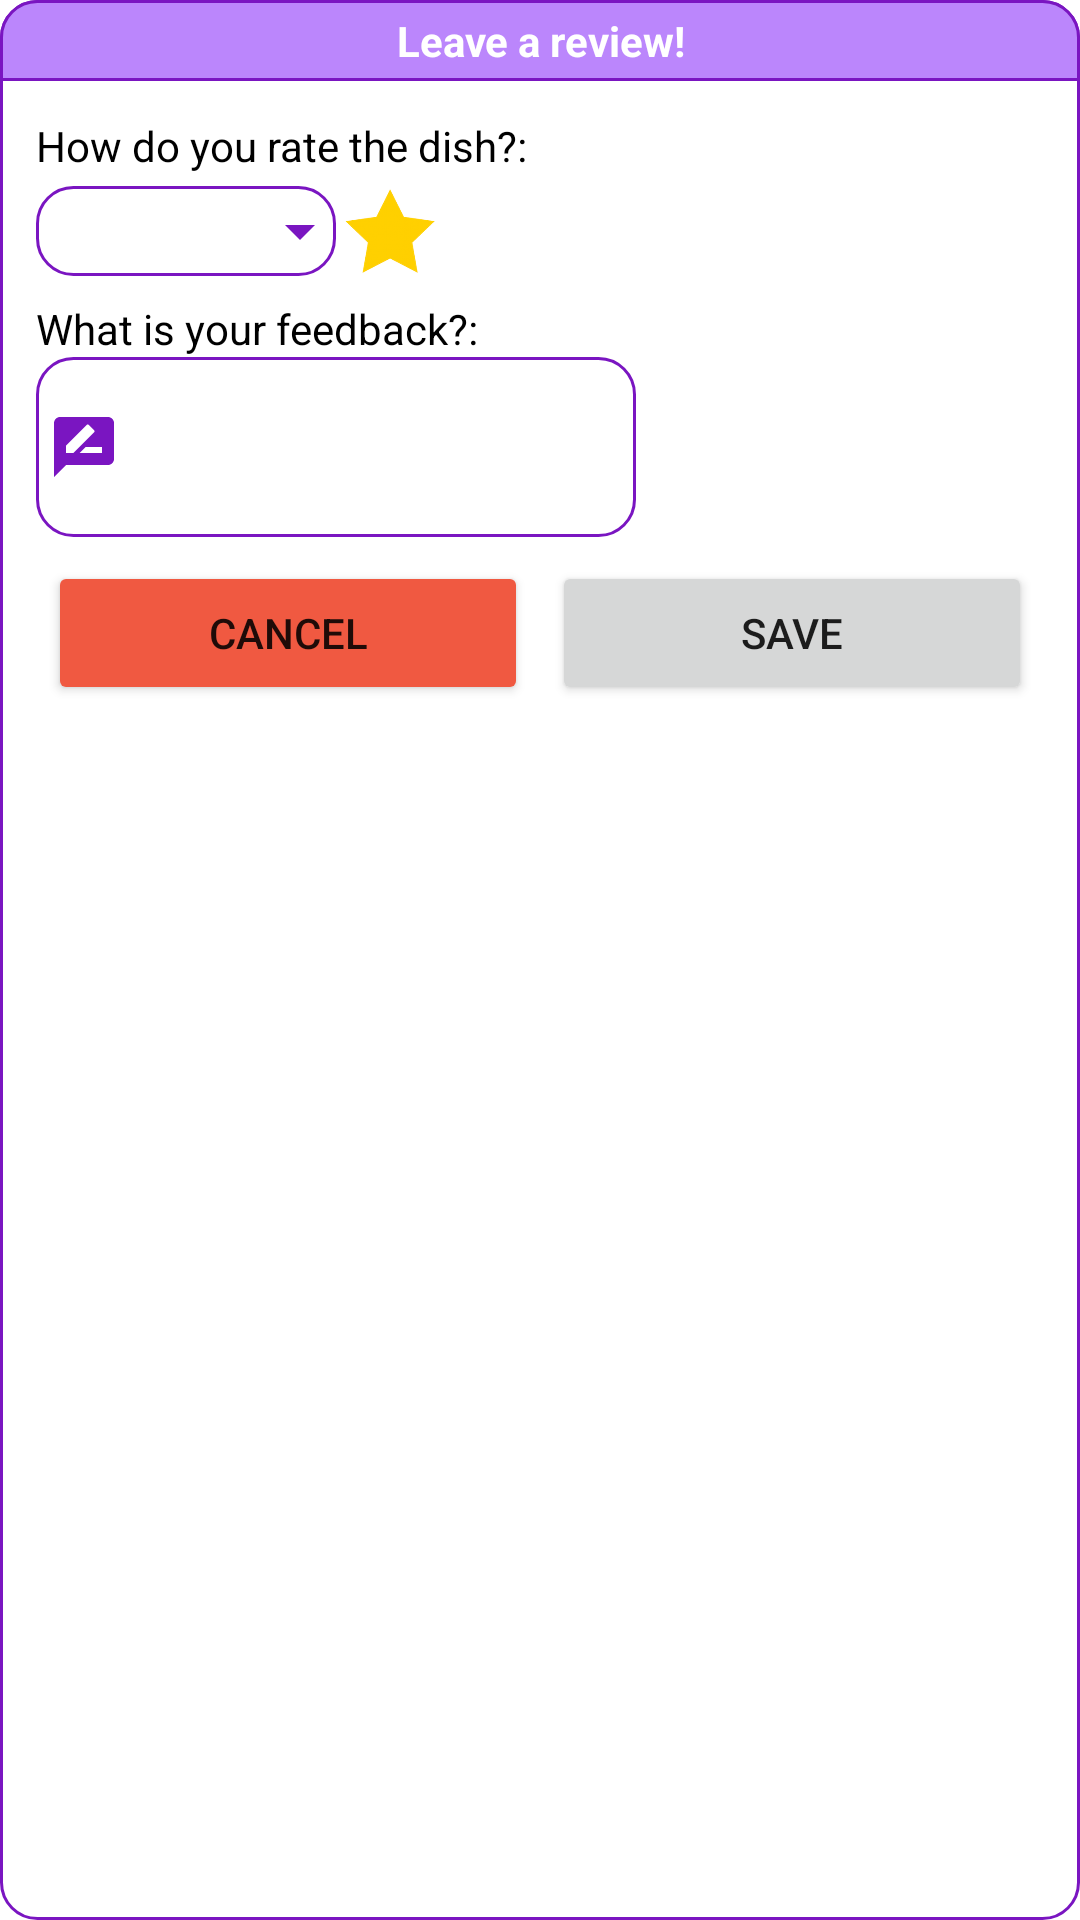

Screen size 1080x1920. Icon name, then its box in pixels as rect(x1, y1, x2, y2):
star: rect(346, 189, 435, 273)
